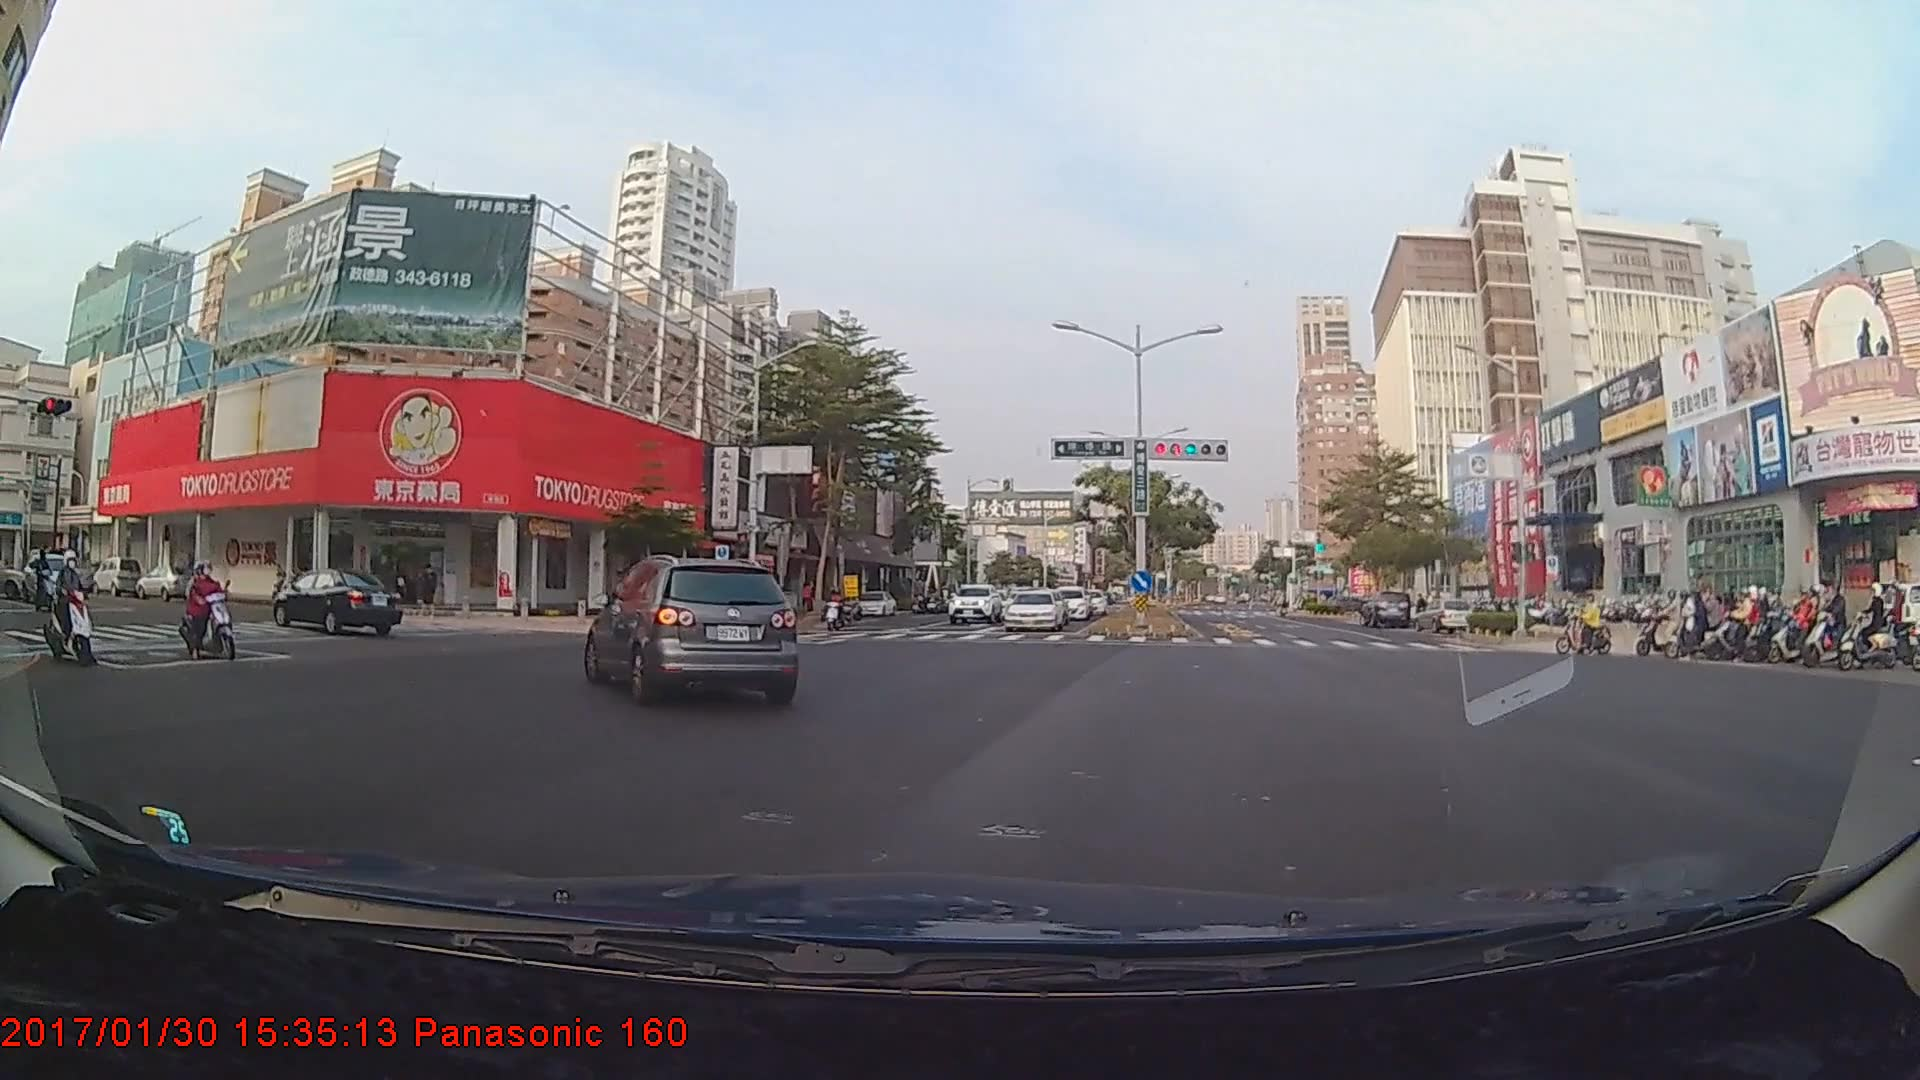rider: (39, 555, 99, 667), (173, 560, 236, 664), (1778, 584, 1839, 662), (1703, 586, 1765, 661), (1645, 597, 1720, 658), (1552, 585, 1613, 655), (1794, 584, 1846, 659), (1700, 594, 1751, 660), (824, 584, 845, 634)
vehicle: (586, 557, 797, 705), (273, 567, 400, 636), (23, 554, 84, 606), (1001, 588, 1064, 630), (945, 581, 1002, 624), (39, 556, 95, 593), (1358, 588, 1409, 627), (1045, 582, 1091, 620), (853, 588, 893, 615)
